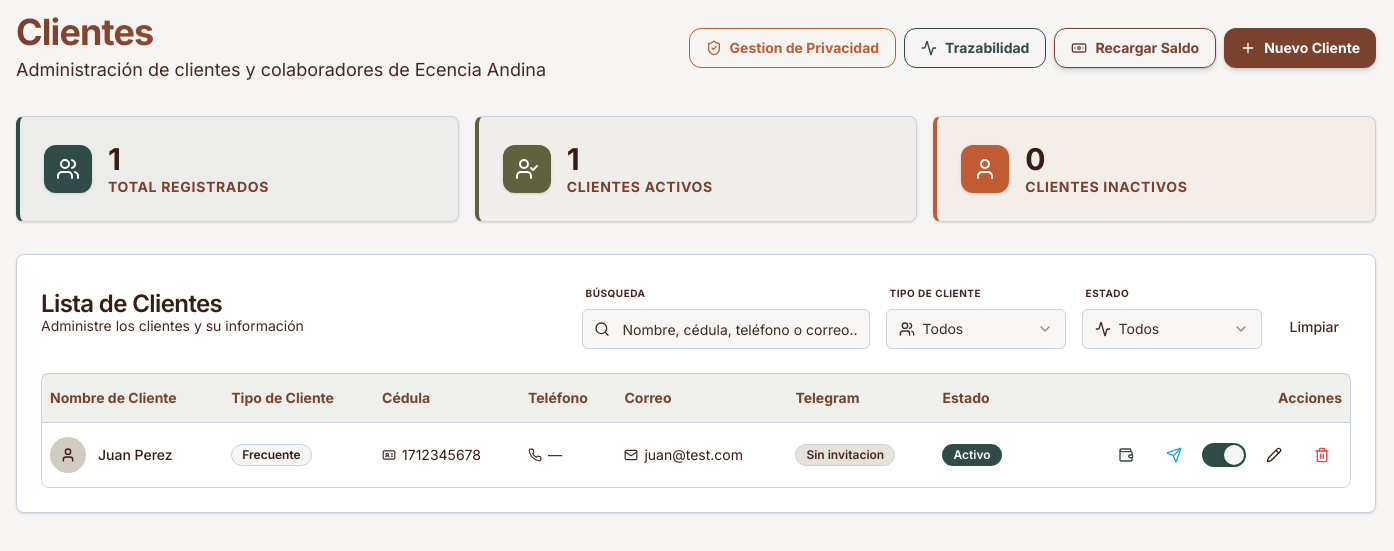
Test: Clientes › permite filtrar clientes por texto de busqueda
Expected: the text "Juan Perez" is shown, [98, 444, 173, 464]
Type "Juan" into the field with placeholder "Nombre, cédula, teléfono o correo...".
click(726, 329); type("Juan")  # box [582, 309, 870, 349]
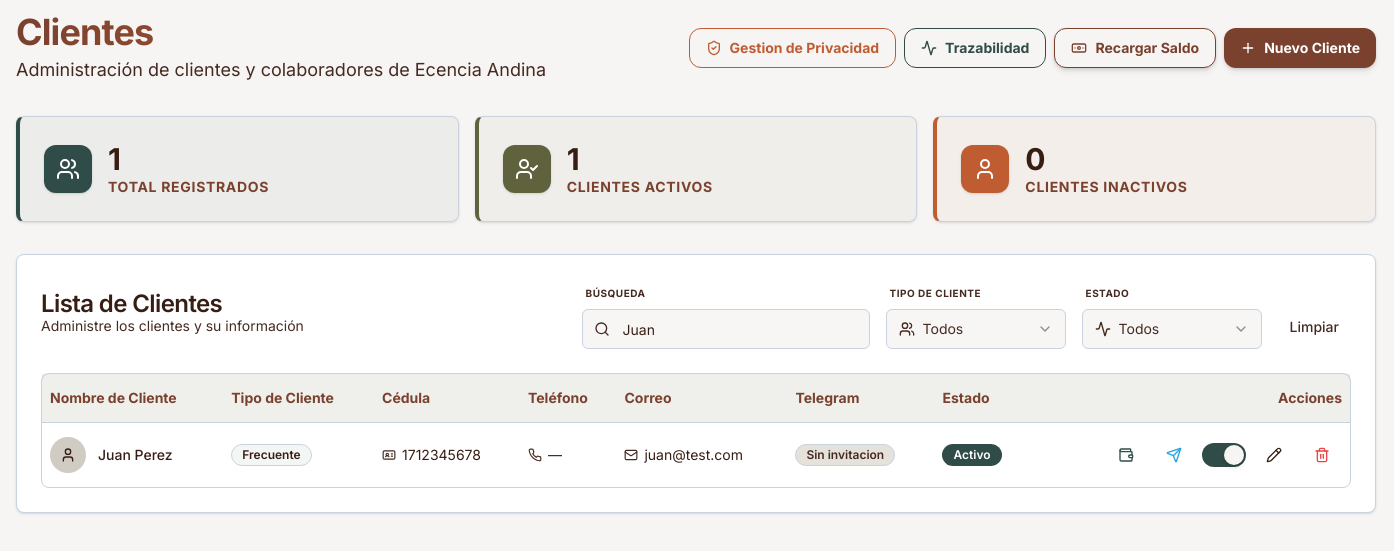
Expected: the text "Juan Perez" is shown, [98, 444, 173, 464]
Replace the text in the field with placeholder "Nombre, cédula, teléfono o correo..." with "NoExiste" at coordinates (726, 329), box [582, 309, 870, 349]
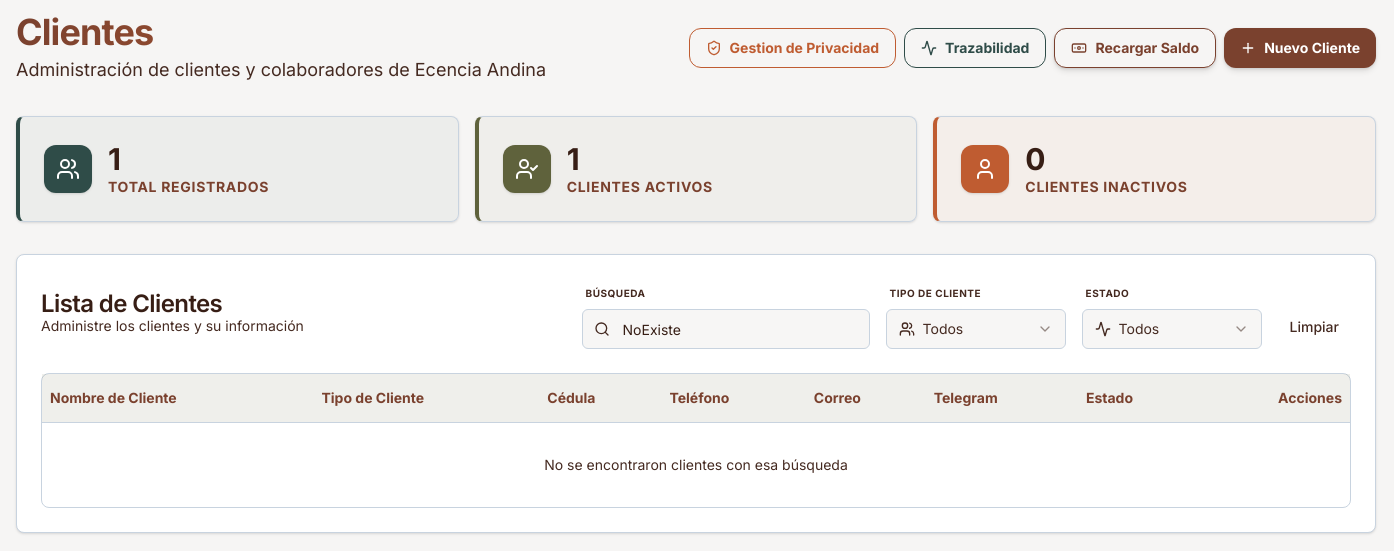
Expected: the text "Juan Perez" is gone
